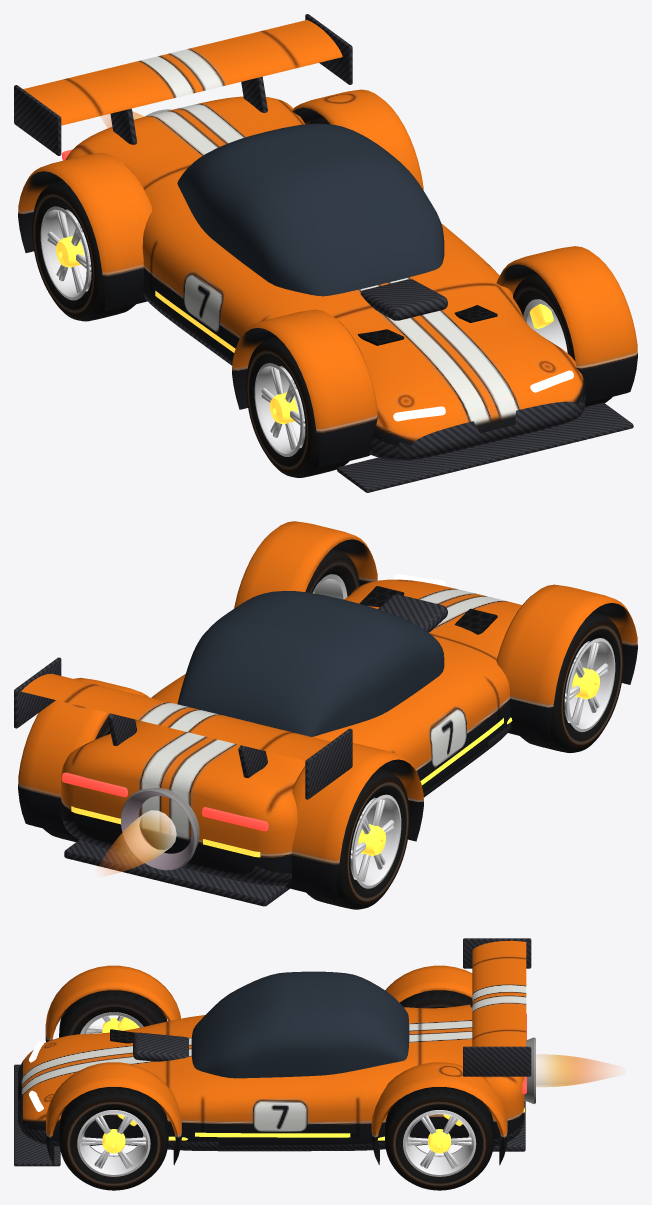
File: rocket-car-hd.glb
The picture shows the model from 3 angles, top to bottom: view 1: azimuth 30°, elevation 25°; view 2: azimuth 150°, elevation 25°; view 3: azimuth 270°, elevation 25°; orthographic projection. The views are drawn at different scales.
Parts seen in each view (by area): view 1: chassis, wheel_rear_right, wheel_front_right, wheel_front_left; view 2: chassis, wheel_rear_right, wheel_front_right, booster_flame, booster_nozzle, wheel_front_left, light_strips; view 3: chassis, wheel_front_left, wheel_rear_left, wheel_front_right, booster_flame, wheel_rear_right, light_strips, booster_nozzle.
Boxes of the visible parts, x1=… form: chassis: x1=14, y1=14, x2=637, y2=492; wheel_rear_right: x1=32, y1=180, x2=135, y2=321; wheel_front_right: x1=246, y1=336, x2=349, y2=477; wheel_front_left: x1=513, y1=273, x2=612, y2=406; chassis: x1=14, y1=521, x2=637, y2=906; wheel_rear_right: x1=306, y1=768, x2=409, y2=909; wheel_front_right: x1=520, y1=611, x2=623, y2=752; booster_flame: x1=100, y1=810, x2=176, y2=874; booster_nozzle: x1=121, y1=788, x2=199, y2=870; wheel_front_left: x1=305, y1=548, x2=359, y2=599; light_strips: x1=71, y1=718, x2=503, y2=857; chassis: x1=14, y1=938, x2=531, y2=1166; wheel_front_left: x1=59, y1=1088, x2=168, y2=1190; wheel_rear_left: x1=385, y1=1088, x2=494, y2=1190; wheel_front_right: x1=59, y1=991, x2=167, y2=1037; booster_flame: x1=536, y1=1054, x2=614, y2=1087; wheel_rear_right: x1=401, y1=991, x2=471, y2=1008; light_strips: x1=195, y1=1108, x2=524, y2=1137; booster_nozzle: x1=524, y1=1037, x2=535, y2=1103.
Size of the model in its own units: 2.07 by 1.18 by 4.56.
16 materials, 6 textured.
